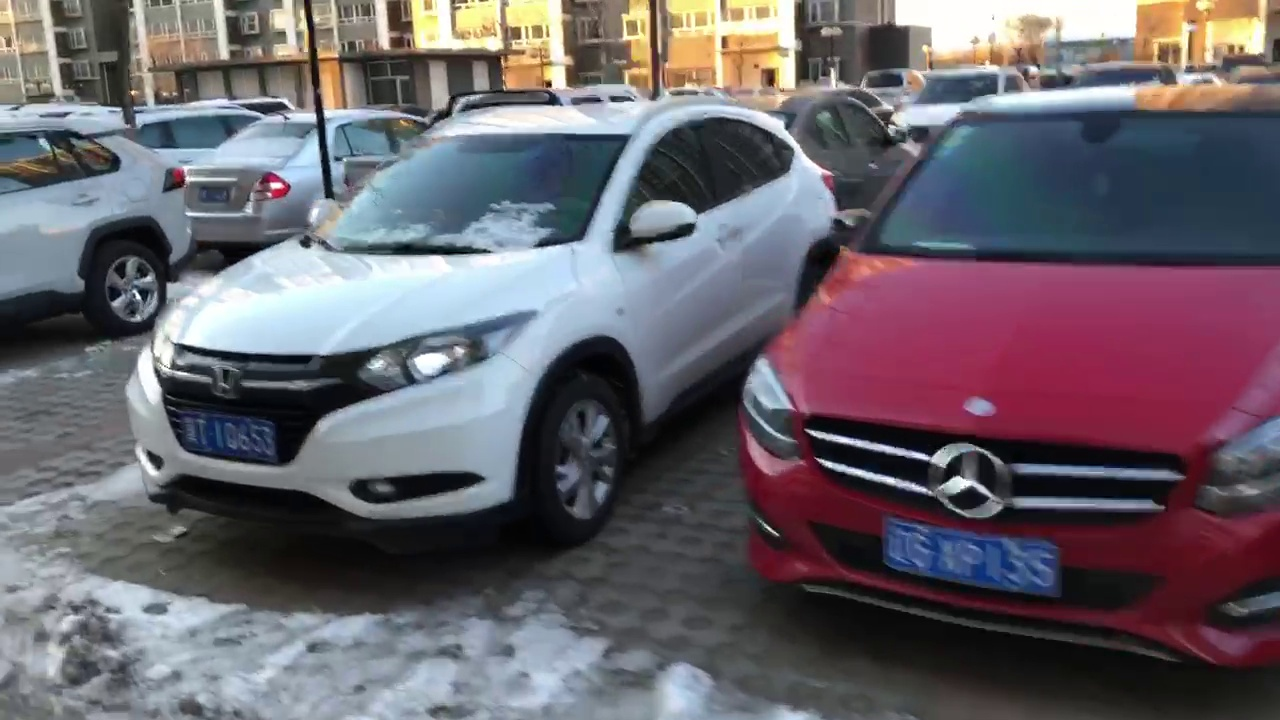plate: (884, 520, 1071, 590), (182, 420, 285, 463)
